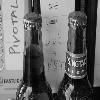beer: (20, 14, 52, 100)
